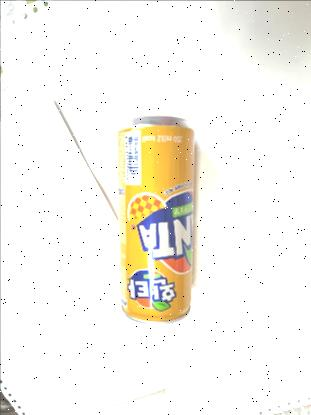Can: (113, 113, 196, 327)
